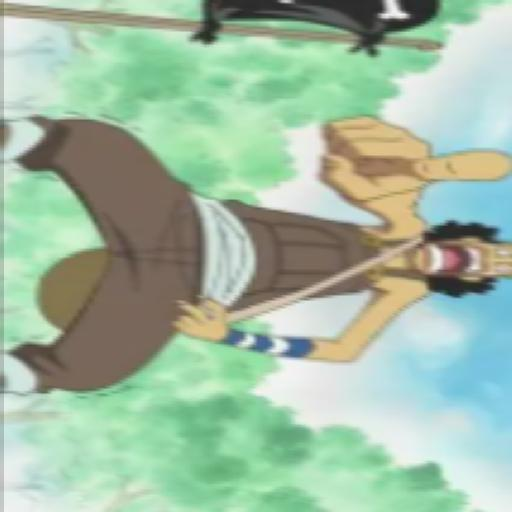Usopp: (0, 108, 512, 403)
